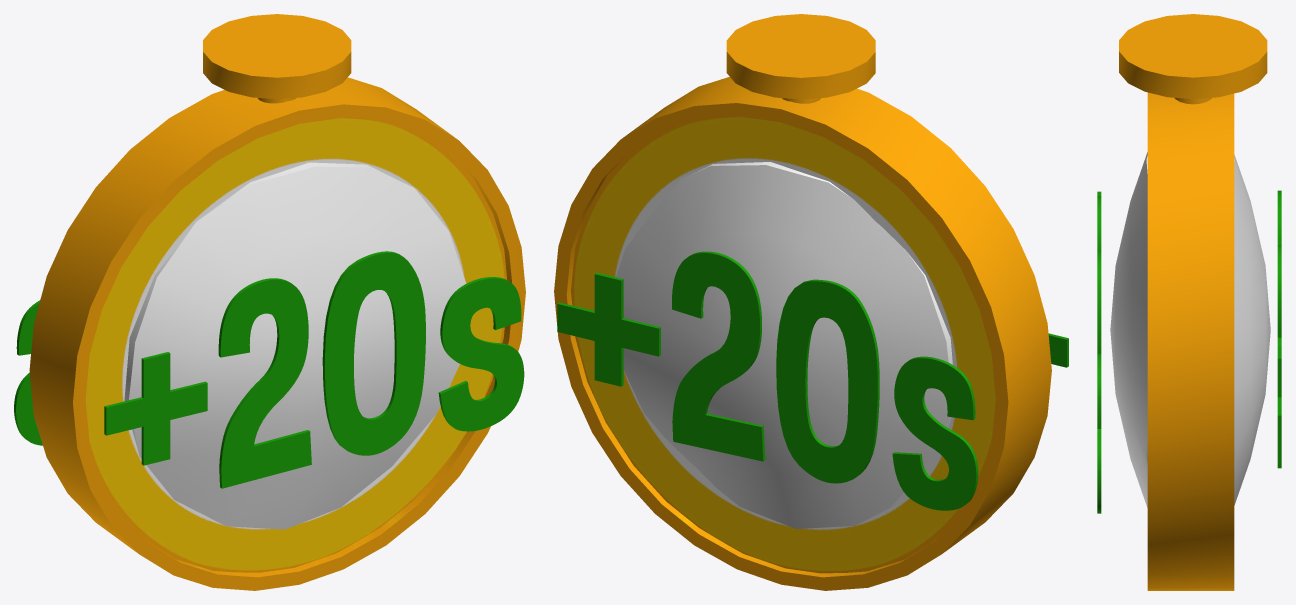
Rendered from clockpickup.dae.
3 views of the same model, side by side, from view 1: azimuth 30°, elevation 25°; view 2: azimuth 150°, elevation 25°; view 3: azimuth 270°, elevation 25° (orthographic).
Parts seen in each view (by area): view 1: clock_powerup_mo; view 2: clock_powerup_mo; view 3: clock_powerup_mo.
Part boxes in pixels (bbox=[...]): clock_powerup_mo: bbox=[14, 14, 525, 590]; clock_powerup_mo: bbox=[554, 14, 1068, 590]; clock_powerup_mo: bbox=[1097, 14, 1281, 590].
Size of the model in its own units: 63.8 by 70.24 by 22.54.
1 material, 1 textured.
